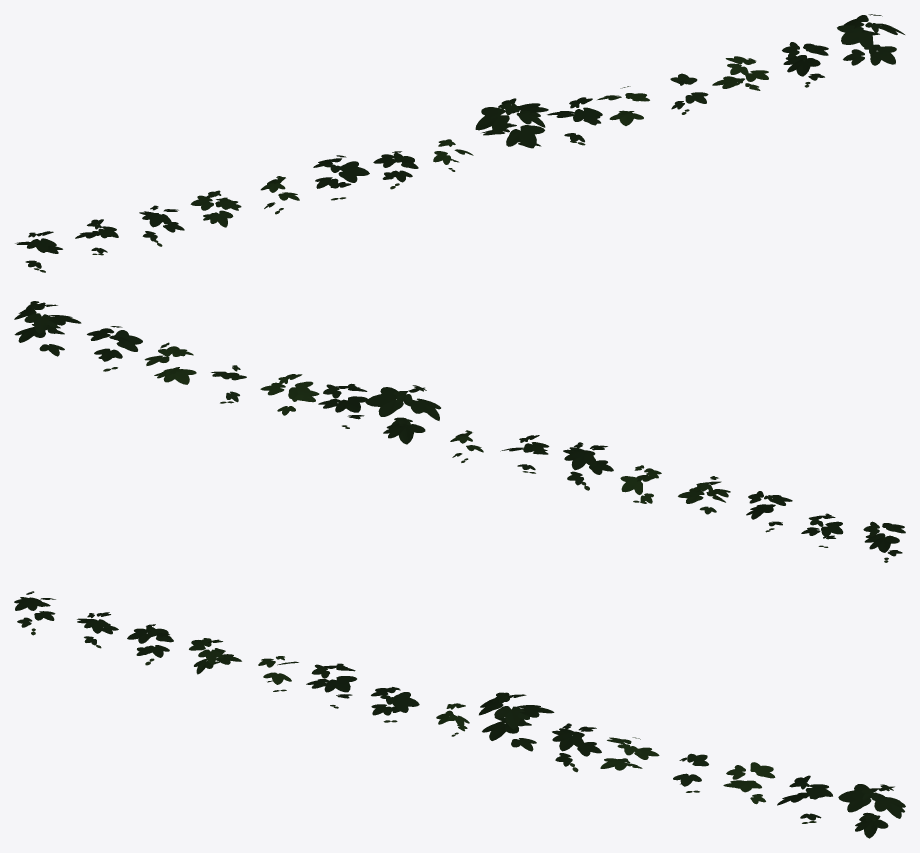
Rendered from ROW_14_SEG3_foliage.dae.
The picture shows the model from 3 angles, top to bottom: view 1: azimuth 30°, elevation 25°; view 2: azimuth 150°, elevation 25°; view 3: azimuth 330°, elevation 25°; orthographic projection.
Parts seen in each view (by area): view 1: ROW_14_SEG3_foliage; view 2: ROW_14_SEG3_foliage; view 3: ROW_14_SEG3_foliage.
Boxes of the visible parts, bbox=[...] form: ROW_14_SEG3_foliage: bbox=[15, 14, 904, 272]; ROW_14_SEG3_foliage: bbox=[14, 301, 905, 562]; ROW_14_SEG3_foliage: bbox=[14, 591, 905, 838].
Size of the model in its own units: 4.54 by 0.3567 by 0.2856.
